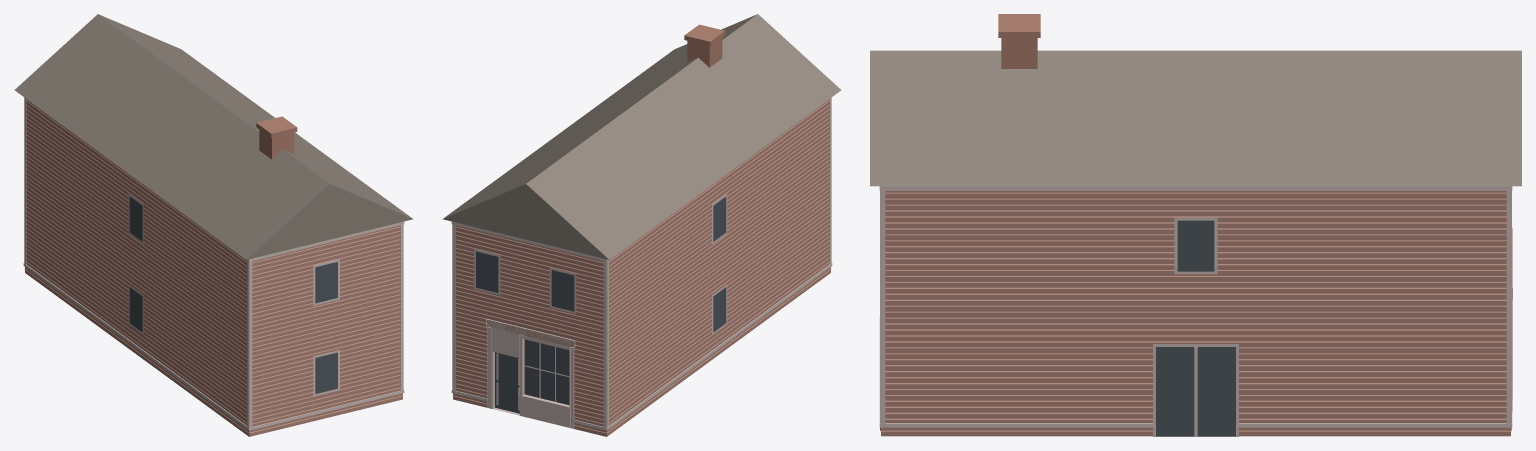
The model's file is recon_1835_blk_south_water_lasalle_c3_13__inferred_1835.glb.
3 views of the same model, side by side, from view 1: azimuth 30°, elevation 25°; view 2: azimuth 150°, elevation 25°; view 3: azimuth 270°, elevation 25° (orthographic). The views are drawn at different scales.
Parts seen in each view (by area): view 1: recon_1835_blk_south_water_lasalle_c3_13__inferred_1835; view 2: recon_1835_blk_south_water_lasalle_c3_13__inferred_1835; view 3: recon_1835_blk_south_water_lasalle_c3_13__inferred_1835.
Part boxes in pixels (x1=…): recon_1835_blk_south_water_lasalle_c3_13__inferred_1835: x1=14, y1=14, x2=413, y2=436; recon_1835_blk_south_water_lasalle_c3_13__inferred_1835: x1=442, y1=14, x2=841, y2=436; recon_1835_blk_south_water_lasalle_c3_13__inferred_1835: x1=870, y1=14, x2=1521, y2=436.
Size of the model in its own units: 6.28 by 9.22 by 15.1.
